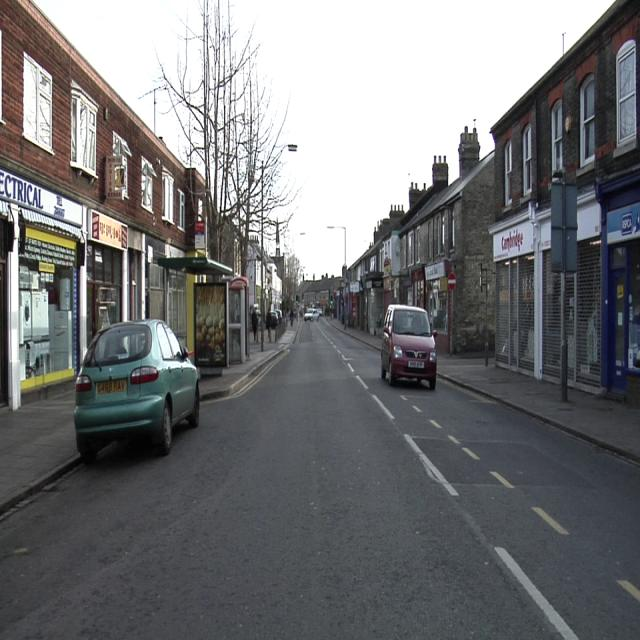Building: (328, 0, 637, 406), (2, 0, 200, 407)
Car: (75, 321, 199, 460), (380, 306, 435, 387), (304, 309, 317, 320)
Road: (0, 320, 638, 622)
Tree: (150, 0, 287, 234)
